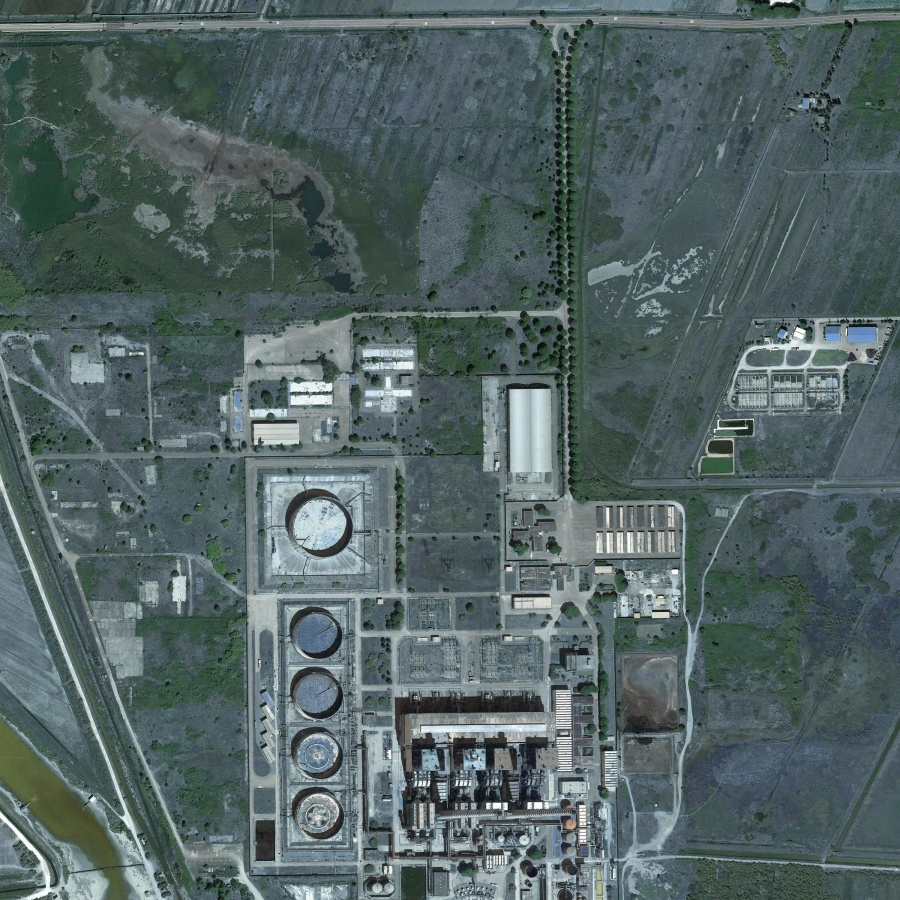PowerPlant: (242, 458, 392, 873)
